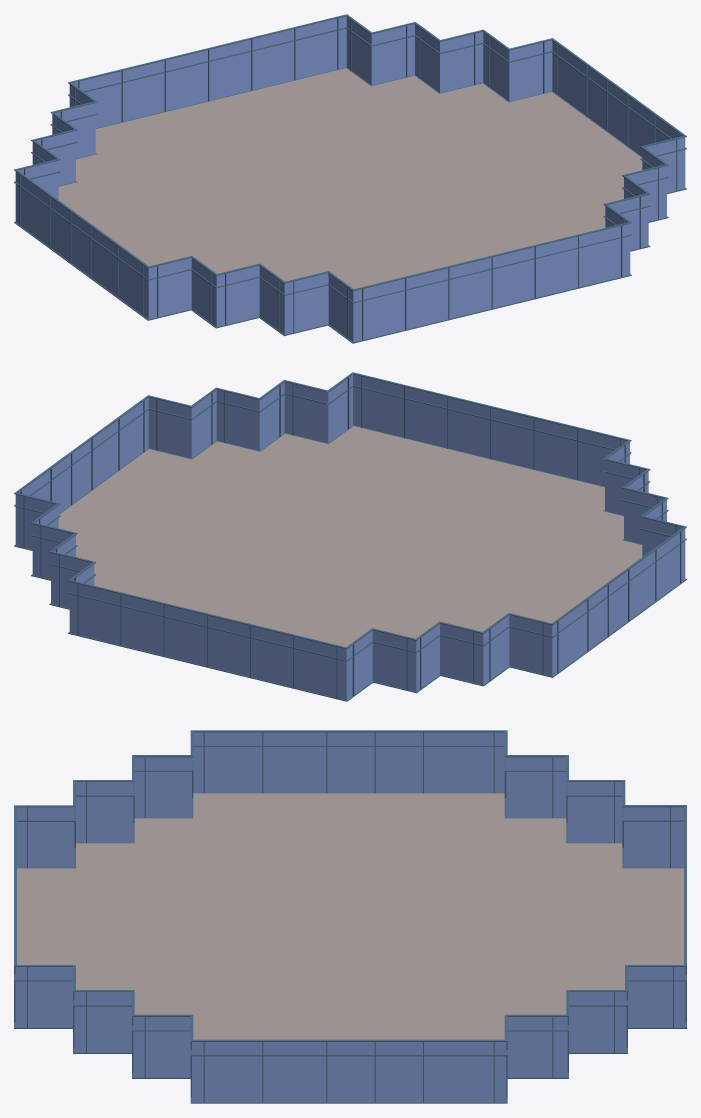
File: 07. Floor plans 7TH Floor.glb
The picture shows the model from 3 angles, top to bottom: view 1: azimuth 30°, elevation 25°; view 2: azimuth 150°, elevation 25°; view 3: azimuth 270°, elevation 25°; orthographic projection. The views are drawn at different scales.
Parts seen in each view (by area): view 1: Floor plans 7TH Floor (1), Floor plans 7TH Floor Window Glass, Floor plans 7TH Floor Window Joinery; view 2: Floor plans 7TH Floor (1), Floor plans 7TH Floor Window Glass, Floor plans 7TH Floor Window Joinery; view 3: Floor plans 7TH Floor (1), Floor plans 7TH Floor Window Glass, Floor plans 7TH Floor Window Joinery.
Part boxes in pixels (x1,y1,x2,y2): Floor plans 7TH Floor (1): (58,68,642,288); Floor plans 7TH Floor Window Glass: (15,16,685,342); Floor plans 7TH Floor Window Joinery: (14,14,686,343); Floor plans 7TH Floor (1): (58,426,642,646); Floor plans 7TH Floor Window Glass: (15,374,685,700); Floor plans 7TH Floor Window Joinery: (14,372,686,701); Floor plans 7TH Floor (1): (17,793,683,1039); Floor plans 7TH Floor Window Glass: (15,732,685,1102); Floor plans 7TH Floor Window Joinery: (14,730,686,1103).
Size of the model in its own units: 38.04 by 3.59 by 34.82.
